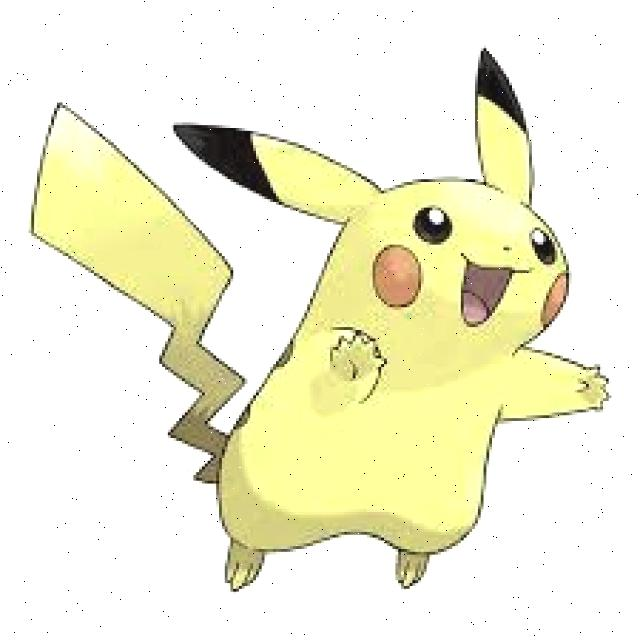pikachu: (30, 46, 612, 598)
